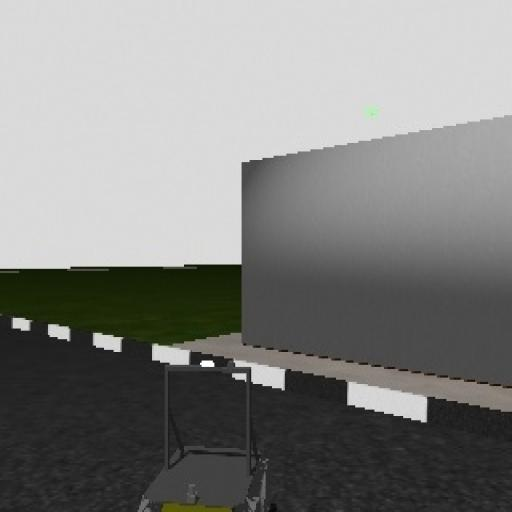huskya200: (140, 352, 279, 512)
